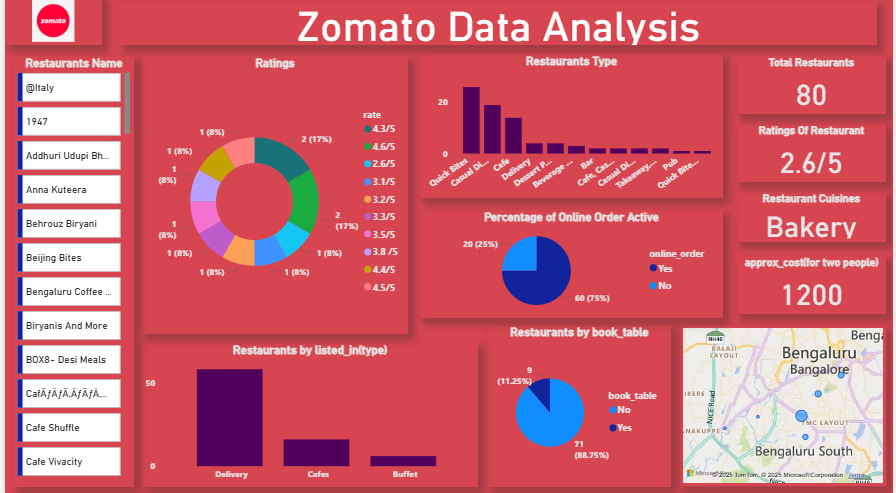

Layout of this report page (visuals, bound fields, positions):
{"tool":"powerbi","page":{"name":"Page 1","canvas":[1280,720],"ordinal":0},"visuals":[{"type":"map","fields":{"Category":["Sheet1.location"],"Size":["CountNonNull(Sheet1.name)"]},"box":[972,473.8,296.6,233.3],"z":0},{"type":"donutChart","title":"Ratings","fields":{"Category":["Sheet1.rate"],"Y":["CountNonNull(Sheet1.name)"]},"box":[197.3,86.4,383,400.3],"z":1000},{"type":"pieChart","title":"Percentage of Online Order Active","fields":{"Y":["CountNonNull(Sheet1.name)"],"Category":["Sheet1.online_order"]},"box":[597.6,308.2,436.3,155.5],"z":2000},{"type":"advancedSlicerVisual","title":"Restaurants Name","fields":{"Values":["Sheet1.name"]},"box":[13,86.4,172.8,620.6],"z":3000},{"type":"card","title":"Total Restaurants","fields":{"Values":["CountNonNull(Sheet1.name)"]},"box":[1054.1,86.1,214.6,83.5],"z":4000},{"type":"card","title":"Ratings Of Restaurant","fields":{"Values":["Min(Sheet1.rate)"]},"box":[1054.1,184,214.6,83.5],"z":5000},{"type":"card","title":"Restaurant Cuisines","fields":{"Values":["Min(Sheet1.cuisines)"]},"box":[1054.1,281.9,214.6,72],"z":6000},{"type":"card","title":"approx_cost(for two people)","fields":{"Values":["Min(Sheet1.approx_cost(for two people))"]},"box":[1054.1,374.4,214.6,83.5],"z":7000},{"type":"clusteredColumnChart","title":"Restaurants Type","fields":{"Category":["Sheet1.rest_type"],"Y":["CountNonNull(Sheet1.name)"]},"box":[597.6,83.5,436.3,207.4],"z":8000},{"type":"pieChart","title":"Restaurants by book_table","fields":{"Y":["CountNonNull(Sheet1.name)"],"Category":["Sheet1.book_table"]},"box":[695.5,473.8,263.5,233.3],"z":9000},{"type":"clusteredColumnChart","title":"Restaurants by listed_in(type)","fields":{"Y":["CountNonNull(Sheet1.name)"],"Category":["Sheet1.listed_in(type)"]},"box":[197.3,499.7,483.8,207.4],"z":10000},{"type":"shape","title":"Zomato Data Analysis","box":[165.6,8.6,1090.1,61.9],"z":11000},{"type":"image","box":[0,0,139.7,70.6],"z":12000}]}

Visuals, with their boxes in screenshot pixels (x1, y1, x2, y2), scaled from the page's 1280x720 canvas onto the 896x493 screenshot:
map - Sheet1.location x CountNonNull(Sheet1.name): 680, 324, 888, 484
"Ratings" donutChart: 138, 59, 406, 333
"Percentage of Online Order Active" pieChart: 418, 211, 724, 318
"Restaurants Name" advancedSlicerVisual: 9, 59, 130, 484
"Total Restaurants" card: 738, 59, 888, 116
"Ratings Of Restaurant" card: 738, 126, 888, 183
"Restaurant Cuisines" card: 738, 193, 888, 242
"approx_cost(for two people)" card: 738, 256, 888, 314
"Restaurants Type" clusteredColumnChart: 418, 57, 724, 199
"Restaurants by book_table" pieChart: 487, 324, 671, 484
"Restaurants by listed_in(type)" clusteredColumnChart: 138, 342, 477, 484
"Zomato Data Analysis" shape: 116, 6, 879, 48
image: 0, 0, 98, 48
